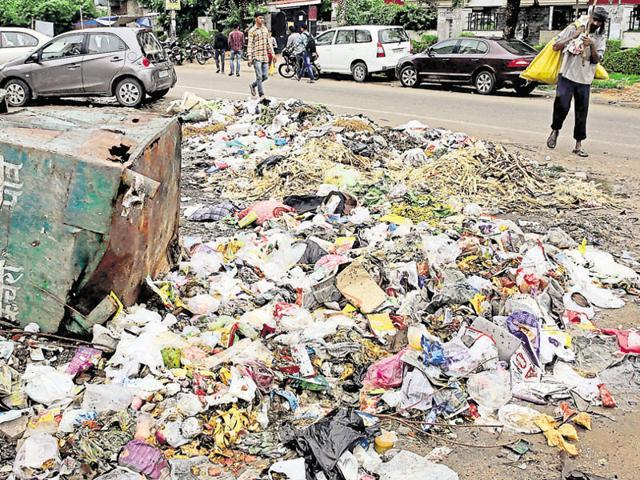road: (266, 75, 640, 178), (171, 64, 251, 98)
trash: (0, 99, 640, 479)
